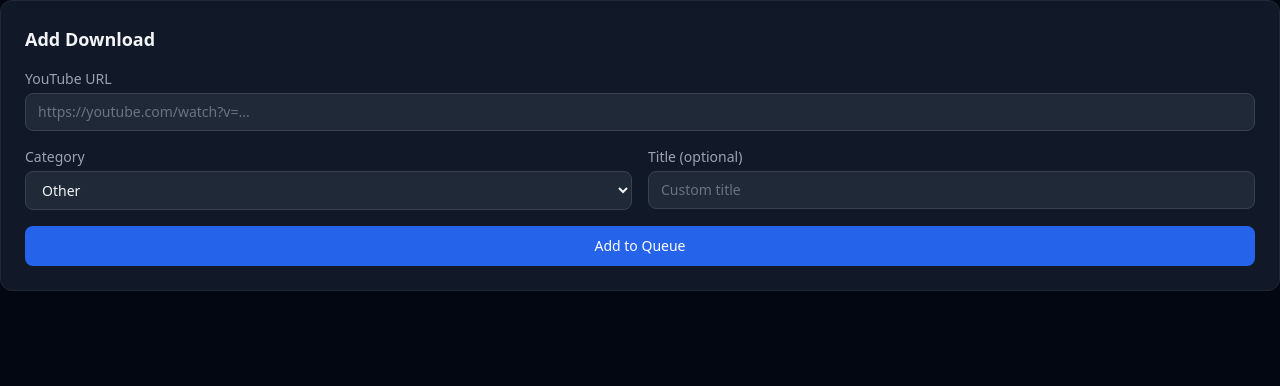
Test: DownloadForm › shows season/episode fields when TV category selected
The width and height of the screenshot is (1280, 386).
Expected: the field labelled "season" is not shown
Expected: the field labelled "episode" is not shown
Select "TV" in the dropdown labelled "Category" at coordinates (328, 190), box [25, 171, 632, 210]
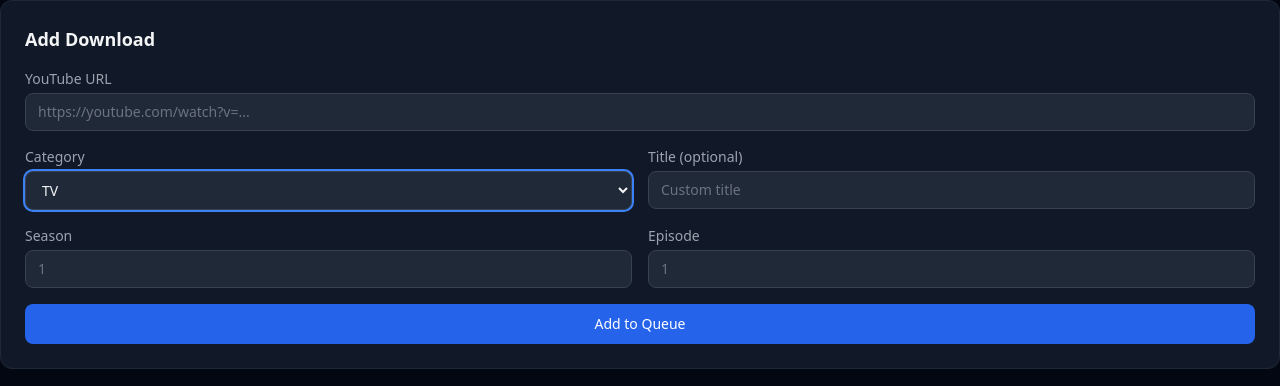
Expected: the number field labelled "Season" is shown, [25, 250, 632, 288]
Expected: the number field labelled "Episode" is shown, [648, 250, 1255, 288]
